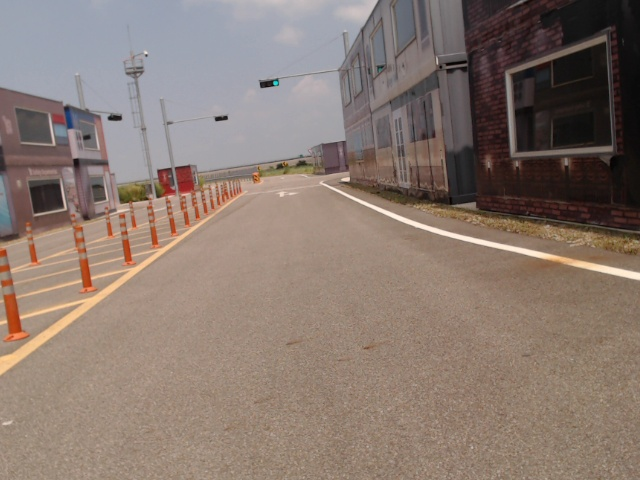green_3: (259, 79, 281, 89)
